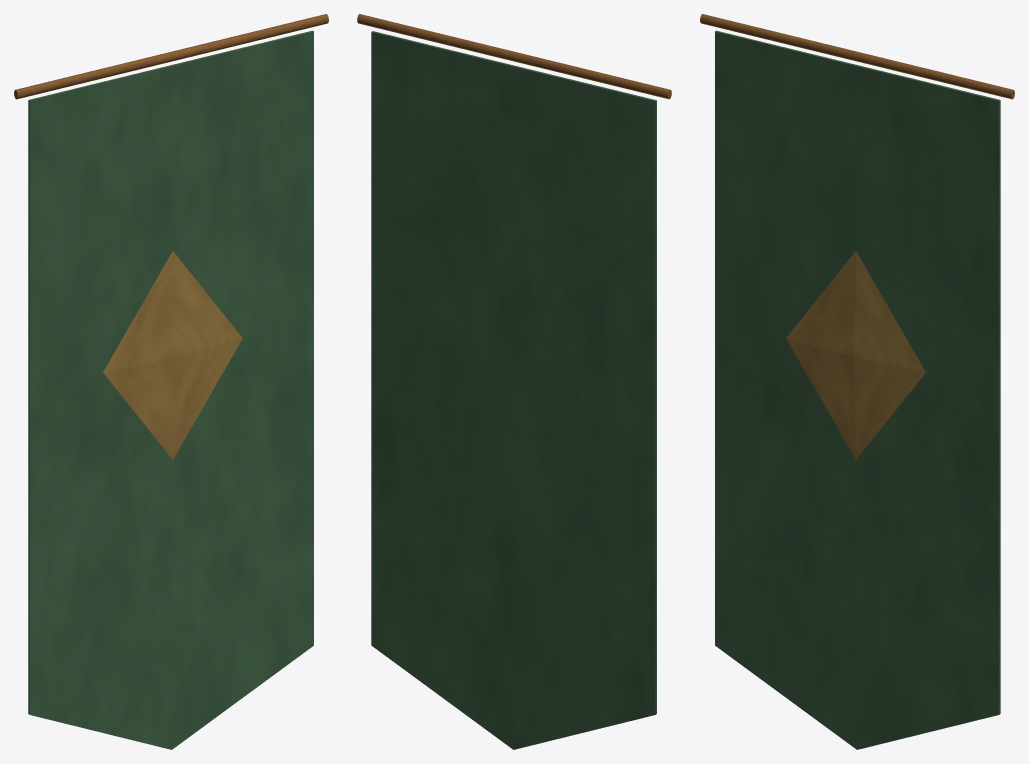
File: Furn_HallBannerGreen.fbx
3 renders of one model, left to right at view 1: azimuth 30°, elevation 25°; view 2: azimuth 150°, elevation 25°; view 3: azimuth 330°, elevation 25°, orthographic.
Parts seen in each view (by area): view 1: Furn_HallBannerGreen_Mesh; view 2: Furn_HallBannerGreen_Mesh; view 3: Furn_HallBannerGreen_Mesh.
Part boxes in pixels (<box>): Furn_HallBannerGreen_Mesh: <box>14,14,328,749</box>; Furn_HallBannerGreen_Mesh: <box>357,14,671,749</box>; Furn_HallBannerGreen_Mesh: <box>700,14,1014,749</box>.
Size of the model in its own units: 1.4 by 3 by 0.04.
Materials: 3 (3 with a texture image).
